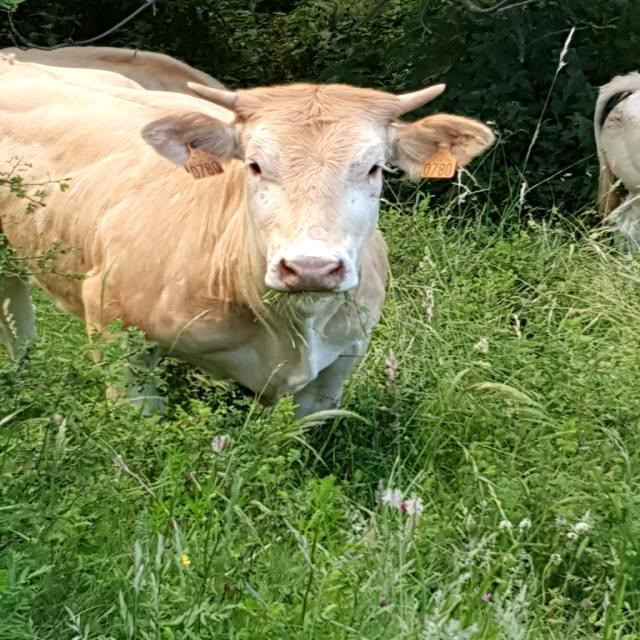COW: (0, 48, 494, 416)
